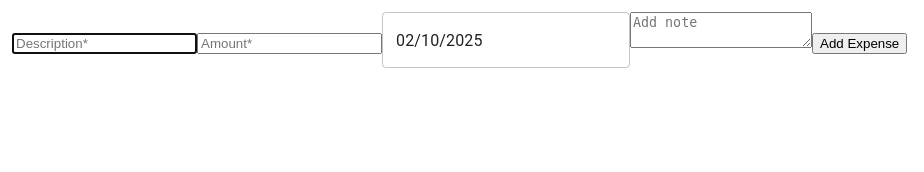
Scenario: should render error with expense data
Click the button "Add Expense": (860, 44) [812, 33, 907, 54]
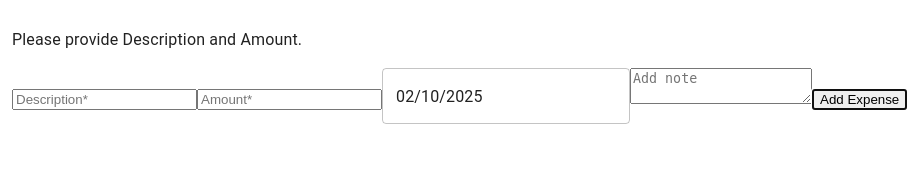
Now the text "Please provide Description and Amount." is shown, box [12, 30, 302, 49]
